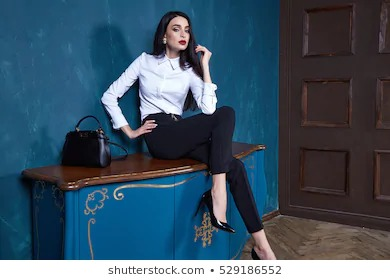S_W_pants: (141, 102, 270, 237)
S_blouse: (92, 54, 220, 120)
